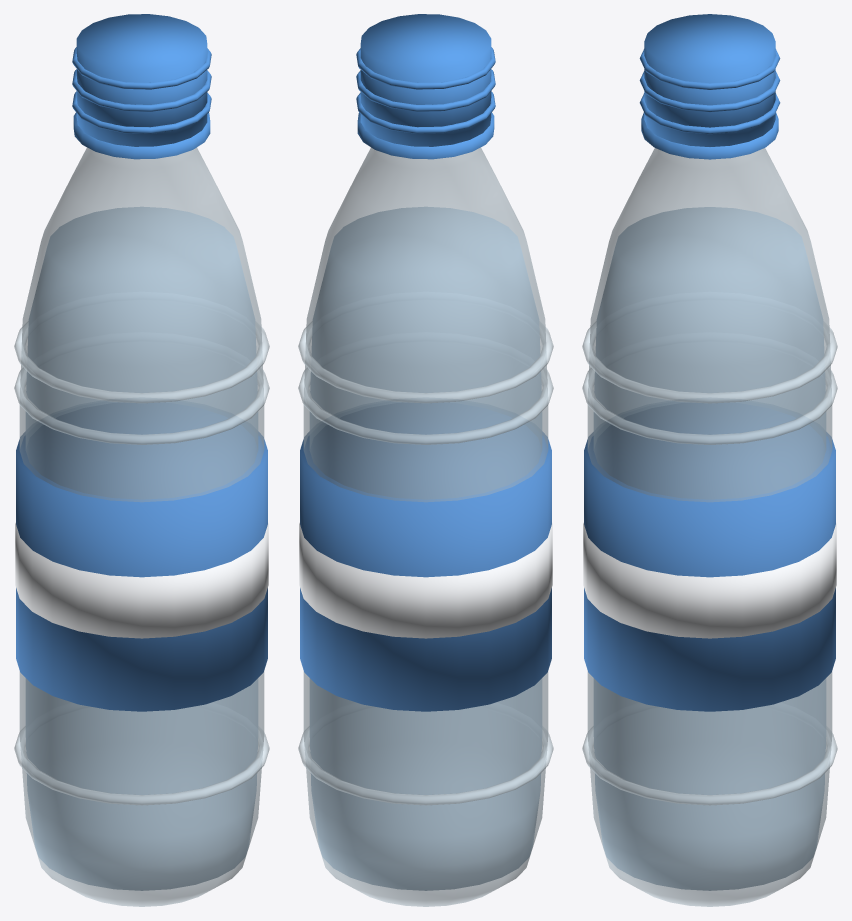
File: wasserflasche.glb
3 views of the same model, side by side, from view 1: azimuth 30°, elevation 25°; view 2: azimuth 150°, elevation 25°; view 3: azimuth 270°, elevation 25° (orthographic).
Visible parts, largest first — view 1: Wasserflasche; view 2: Wasserflasche; view 3: Wasserflasche.
Boxes of the visible parts, box(x1,y1,x2,y2) form: Wasserflasche: box(14, 14, 269, 906); Wasserflasche: box(298, 14, 553, 906); Wasserflasche: box(582, 14, 837, 906).
Bounding box in the file's own units: 0.0836 × 0.3 × 0.0836.
